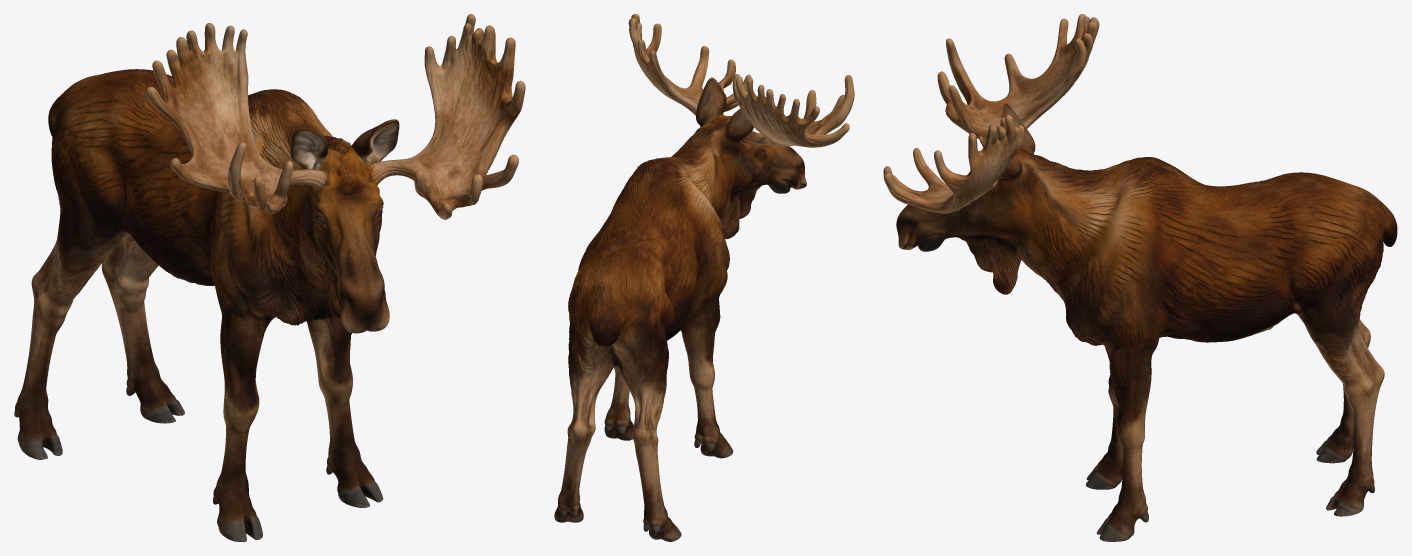
File: moose.glb
3 renders of one model, left to right at view 1: azimuth 30°, elevation 25°; view 2: azimuth 150°, elevation 25°; view 3: azimuth 270°, elevation 25°, orthographic. The views are drawn at different scales.
Parts seen in each view (by area): view 1: moose; view 2: moose; view 3: moose.
Part boxes in pixels (left/top/right/bottom): moose: left=14, top=14, right=525, bottom=541; moose: left=554, top=14, right=854, bottom=541; moose: left=883, top=14, right=1397, bottom=541.
Size of the model in its own units: 1.57 by 2.45 by 2.56.
Materials: 1 (1 with a texture image).
